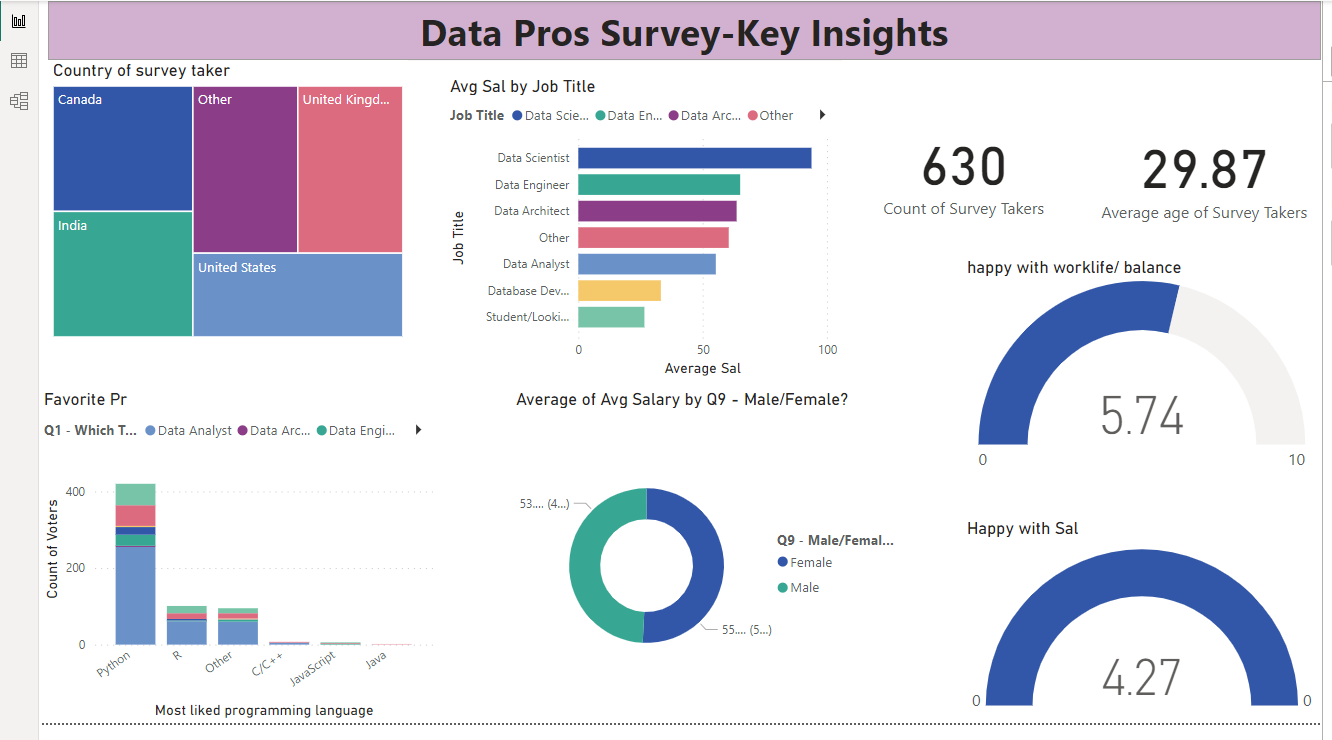

The page's visual inventory and layout, read from the dashboard file:
{"tool":"powerbi","page":{"name":"Page 1","canvas":[1280,720],"ordinal":0},"visuals":[{"type":"textbox","box":[9.3,0,1269.5,59.2],"z":0},{"type":"card","fields":{"Values":["Count(Data Professional Survey.Unique ID)"]},"box":[801.5,59.2,242.8,218.4],"z":1000},{"type":"card","fields":{"Values":["Avg(Data Professional Survey.Q10 - Current Age)"]},"box":[1044.2,59.2,235.8,225.3],"z":2000},{"type":"barChart","title":"Avg Sal by Job Title","fields":{"Category":["Data Professional Survey.Q1 - Which Title Best Fits your Current Role?.1"],"Y":["Avg(Data Professional Survey.Avg Salary)"],"Series":["Data Professional Survey.Q1 - Which Title Best Fits your Current Role?.1"]},"box":[405.4,74.3,396.1,304.3],"z":3000},{"type":"columnChart","title":"Favorite Pr","fields":{"Category":["Data Professional Survey.Q5 - Favorite Programming Language.1"],"Y":["CountNonNull(Data Professional Survey.Unique ID)"],"Series":["Data Professional Survey.Q1 - Which Title Best Fits your Current Role?.1"]},"box":[0,386.8,398.4,333.4],"z":4000},{"type":"treemap","title":"Country of survey taker","fields":{"Group":["Data Professional Survey.Q11 - Which Country do you live in?.1.1"],"Values":["Count(Data Professional Survey.Q11 - Which Country do you live in?.1.1)"]},"box":[9.3,59.2,358.9,281.1],"z":5000},{"type":"gauge","title":"happy with worklife/ balance","fields":{"Y":["Avg(Data Professional Survey.Q6 - How Happy are you in your Current Position with the following? (Work/Life Balance))"],"MinValue":["Min(Data Professional Survey.Q6 - How Happy are you in your Current Position with the following? (Work/Life Balance))1"],"MaxValue":["Max(Data Professional Survey.Q6 - How Happy are you in your Current Position with the following? (Work/Life Balance))2"]},"box":[921.1,255.5,358.9,223],"z":6000},{"type":"gauge","title":"Happy with Sal","fields":{"Y":["Avg(Data Professional Survey.Q6 - How Happy are you in your Current Position with the following? (Salary))"],"MinValue":["Min(Data Professional Survey.Q6 - How Happy are you in your Current Position with the following? (Salary))"],"MaxValue":["Min(Data Professional Survey.Q6 - How Happy are you in your Current Position with the following? (Salary))"]},"box":[921.1,515.7,358.9,204.4],"z":7000},{"type":"donutChart","fields":{"Category":["Data Professional Survey.Q9 - Male/Female?"],"Y":["Avg(Data Professional Survey.Avg Salary)"]},"box":[470.4,386.8,391.4,333.4],"z":8000}]}

Visuals, with their boxes on the page's 1280x720 design canvas (x1, y1, x2, y2). These are canvas units, not pixel positions in the 1332x740 screenshot, which may show the page scaled, cropped or inside an application window:
textbox: Rect(9, 0, 1279, 59)
card - Count(Data Professional Survey.Unique ID): Rect(802, 59, 1044, 278)
card - Avg(Data Professional Survey.Q10 - Current Age): Rect(1044, 59, 1280, 284)
"Avg Sal by Job Title" barChart: Rect(405, 74, 802, 379)
"Favorite Pr" columnChart: Rect(0, 387, 398, 720)
"Country of survey taker" treemap: Rect(9, 59, 368, 340)
"happy with worklife/ balance" gauge: Rect(921, 256, 1280, 478)
"Happy with Sal" gauge: Rect(921, 516, 1280, 720)
donutChart - Data Professional Survey.Q9 - Male/Female? x Avg(Data Professional Survey.Avg Salary): Rect(470, 387, 862, 720)
